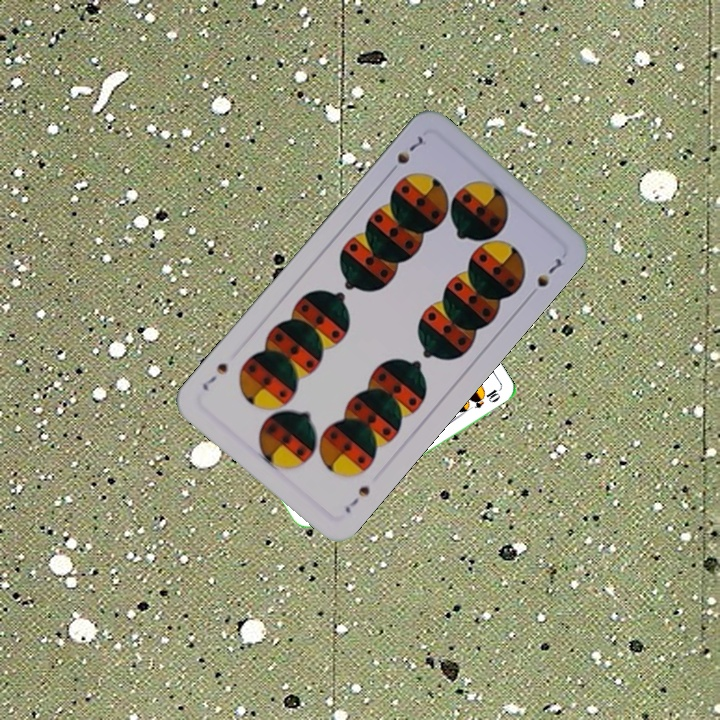S7: (383, 131, 426, 178), (340, 481, 373, 516)
